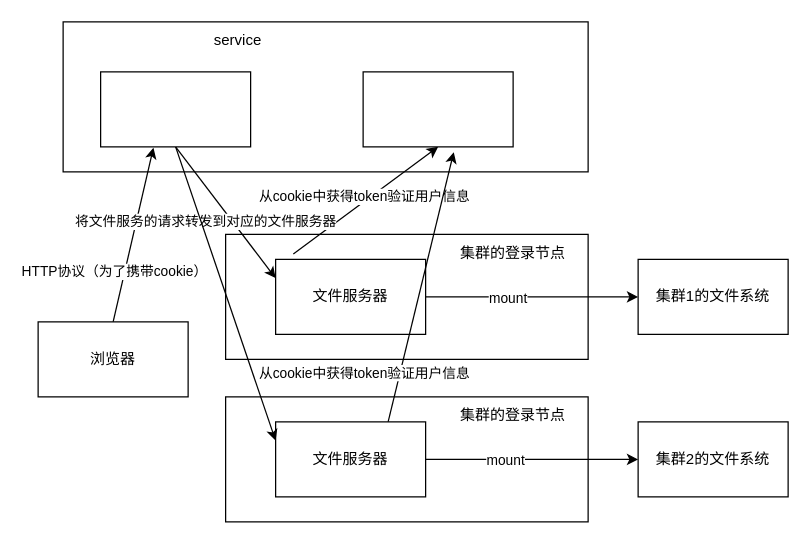
This 811x544 diagram has some shape labels left out. The shapes that lost their labels are listed below. From the top down, each one's centre as x and y in pixels, then its label:
the point at 175,109: nginx
the point at 437,109: auth
